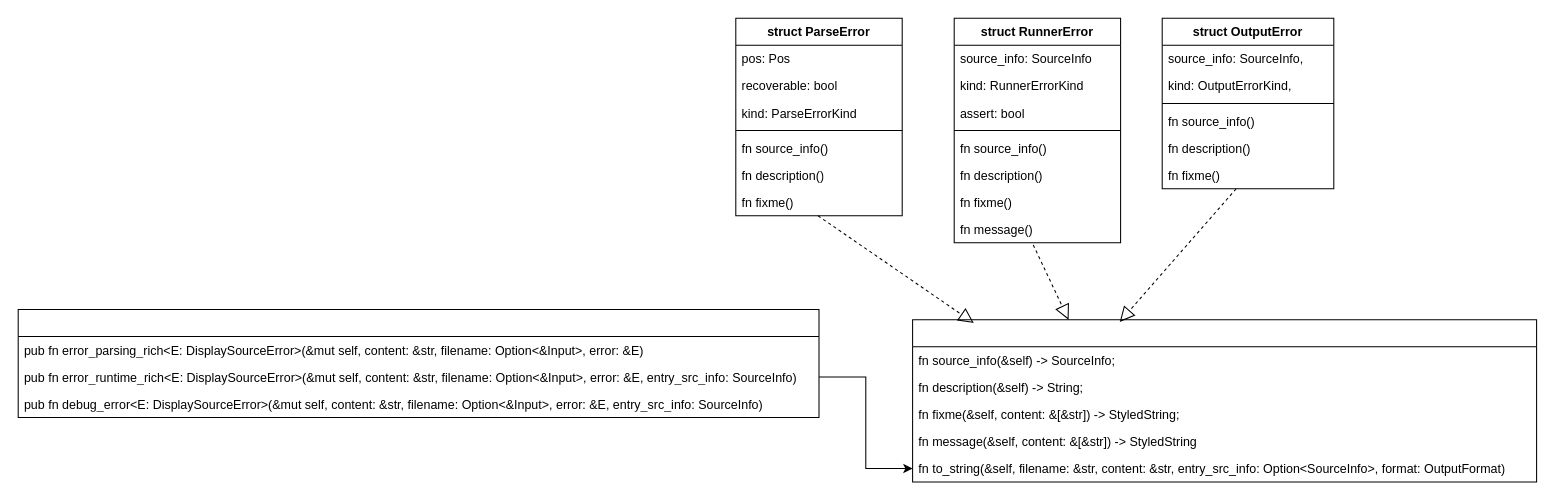
This 1555x503 diagram has some shape labels left out. The shapes that lost their labels are listed below. From the top down, each one's box as (x1, y1, x2, y2) in pixels, then its label:
(17, 308, 819, 418): struct Logger
(912, 319, 1537, 482): trait DisplaySourceError
